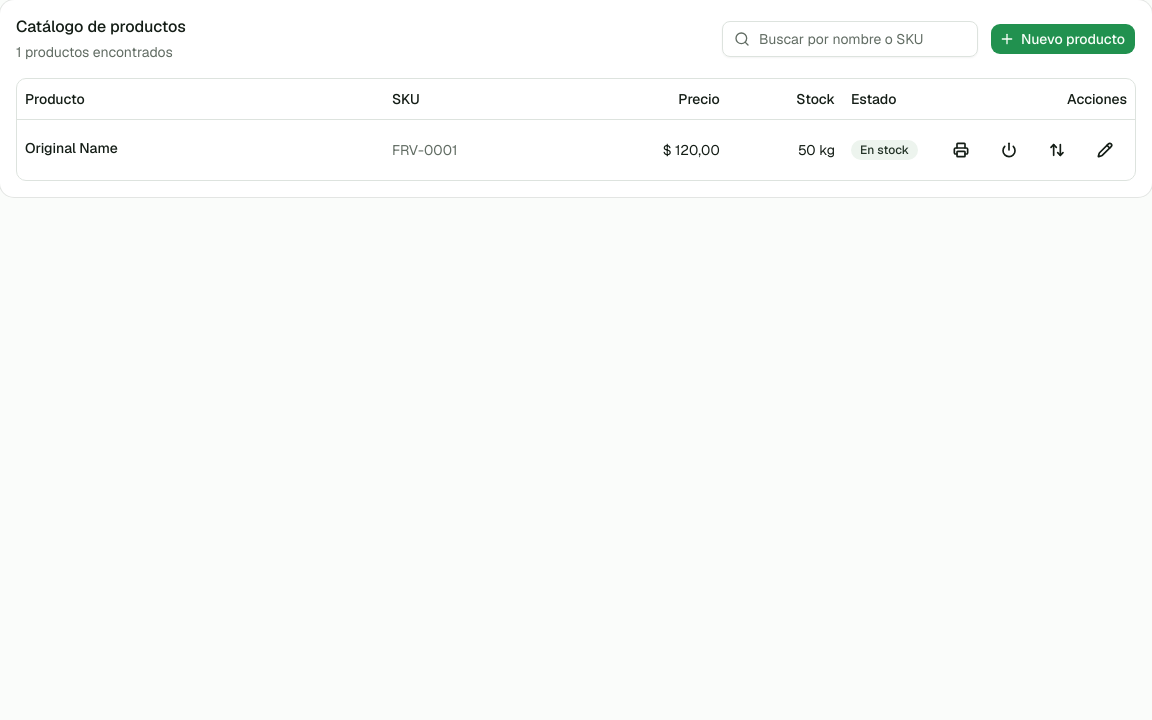
Test: ProductsTable — backend-persisted label requests › does not create or refresh label jobs for non-price edits
Expected: the text "Original Name" is shown, [25, 138, 118, 158]
Step 1. Click the button named "Editar Original Name" → (1105, 150), box [1083, 128, 1127, 172]
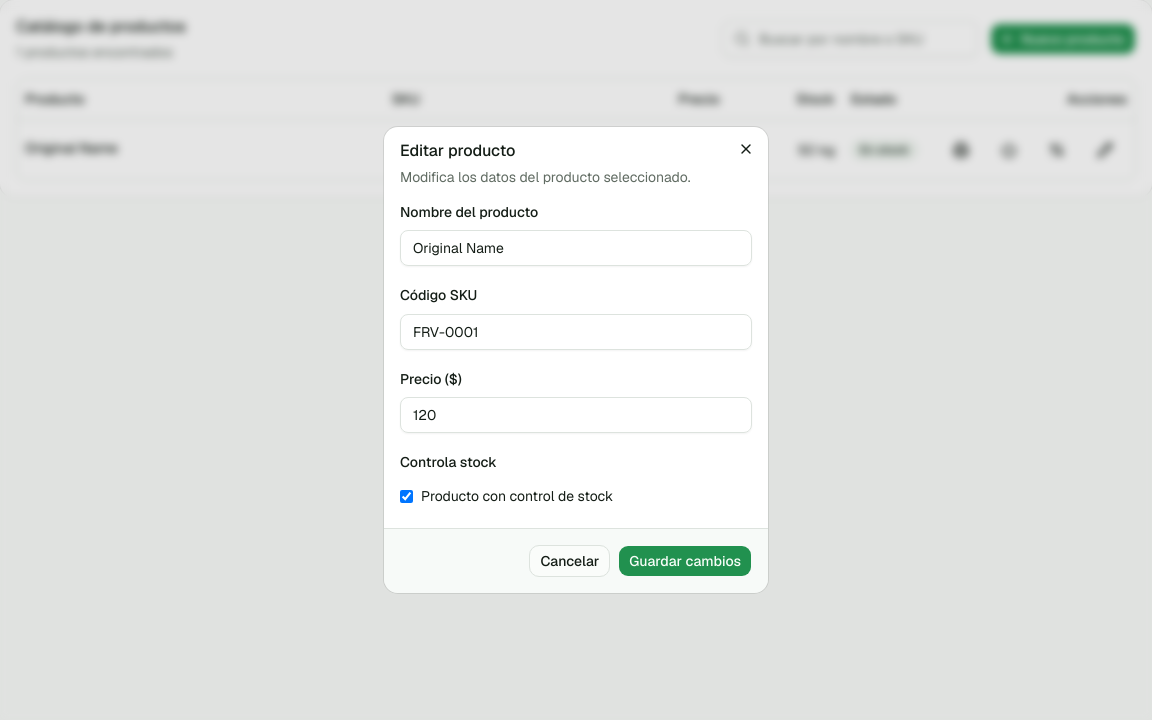
Now the dialog is shown, box [384, 127, 768, 593]
Step 2. Replace the text in the field labelled "Nombre del producto" with "Renamed Product" → (576, 248), box [400, 230, 752, 266]
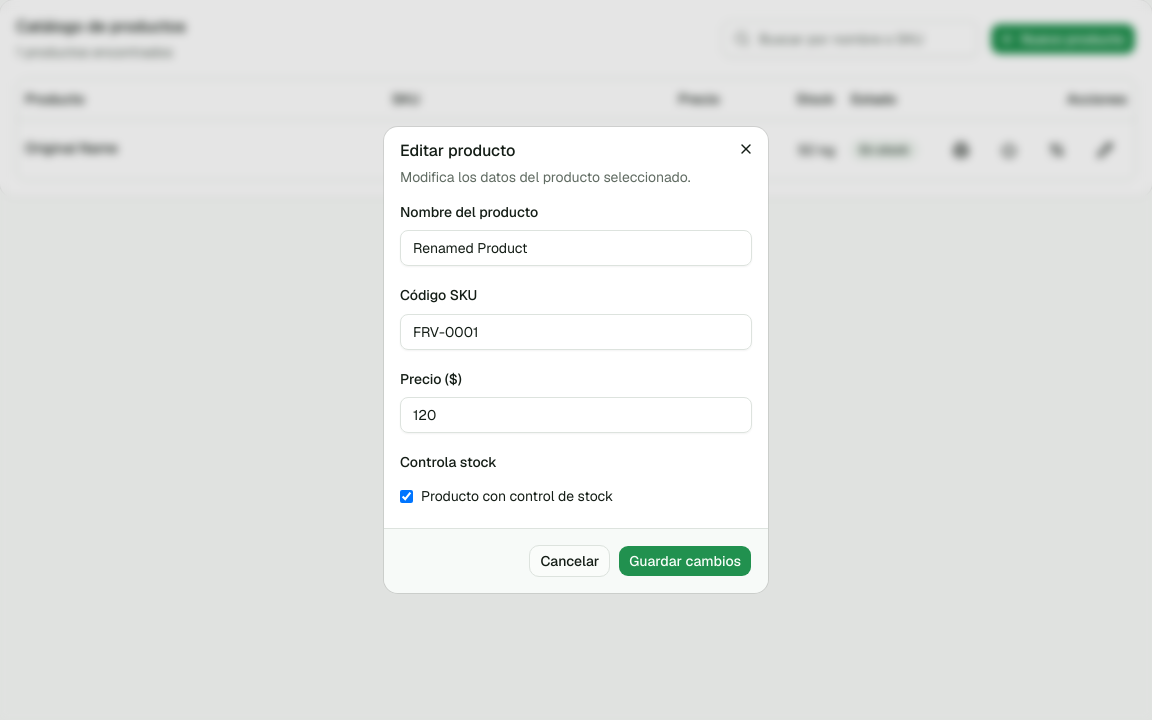
Step 3. Click the button "Guardar cambios" → (685, 561), box [618, 545, 752, 577]
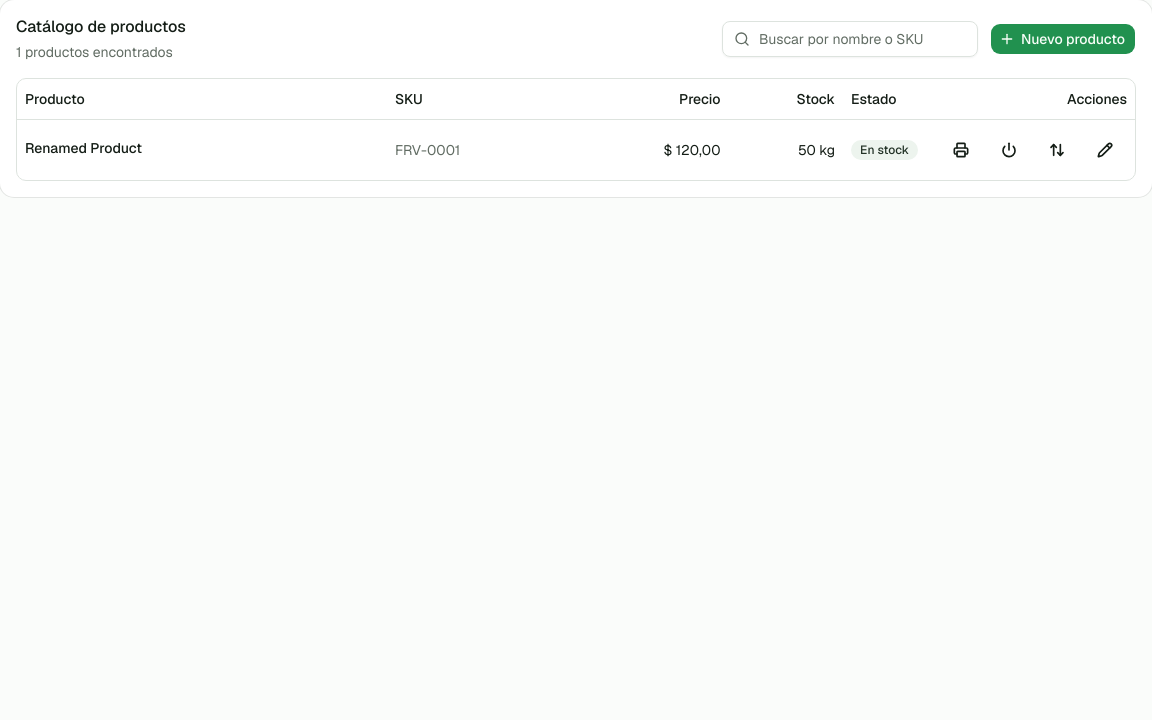
Now the dialog is gone
